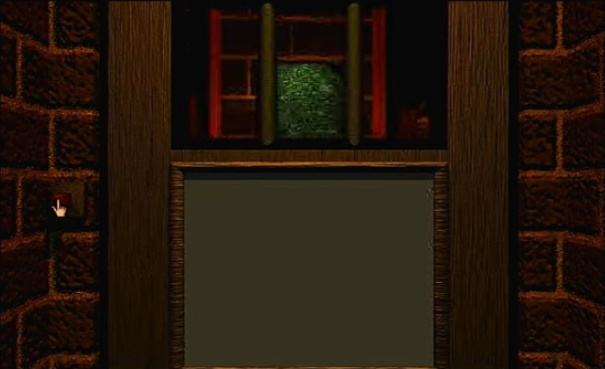Pointer: (48, 196, 72, 219)
